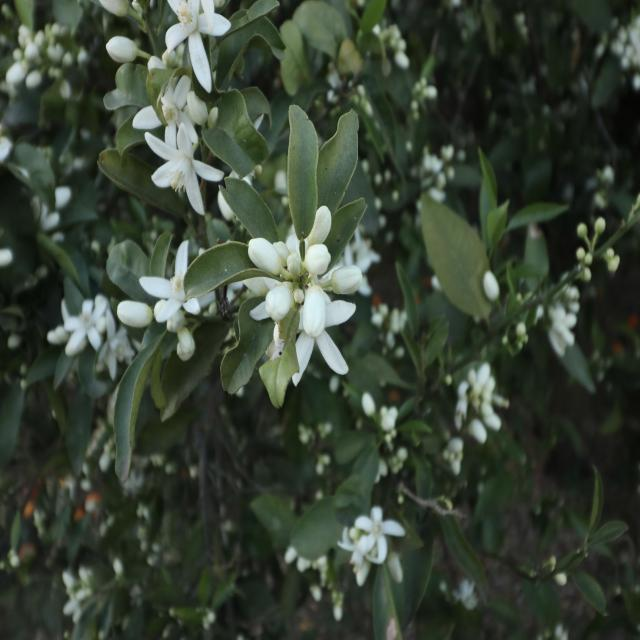Bunga: (144, 122, 224, 218), (166, 0, 231, 94), (292, 302, 358, 384), (140, 242, 202, 324), (132, 74, 198, 144), (302, 284, 326, 338), (247, 238, 281, 276), (306, 205, 333, 248), (264, 285, 294, 321), (105, 36, 138, 66), (117, 302, 151, 330), (331, 266, 364, 294), (304, 244, 331, 276), (174, 327, 197, 360), (188, 90, 208, 126), (99, 0, 130, 18), (148, 58, 164, 72)
